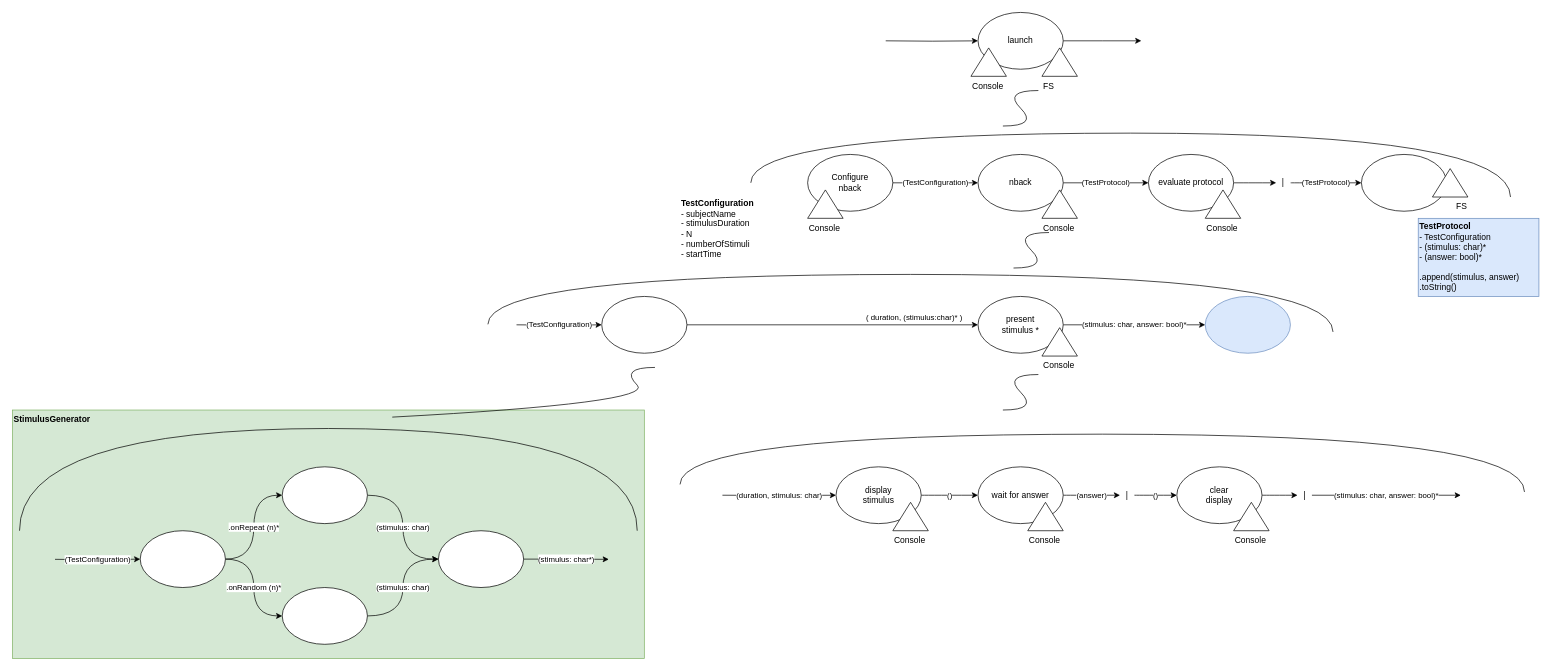
The diagram is 1551 pixels wide and 671 high, and some of its shapes have lost their labels. Each missing label, with the centre of its shape:
Add to Protocol: point (1247, 324)
collect stimulus: point (481, 559)
create different stimulus: point (324, 615)
decide next stimulus: point (182, 559)
Generate Stimulus: point (644, 324)
repeat stimulus: point (324, 495)
Write Protocol: point (1404, 182)
